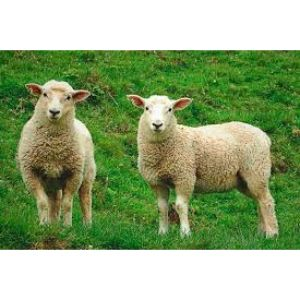sheep: (122, 88, 282, 240), (12, 76, 98, 229)
